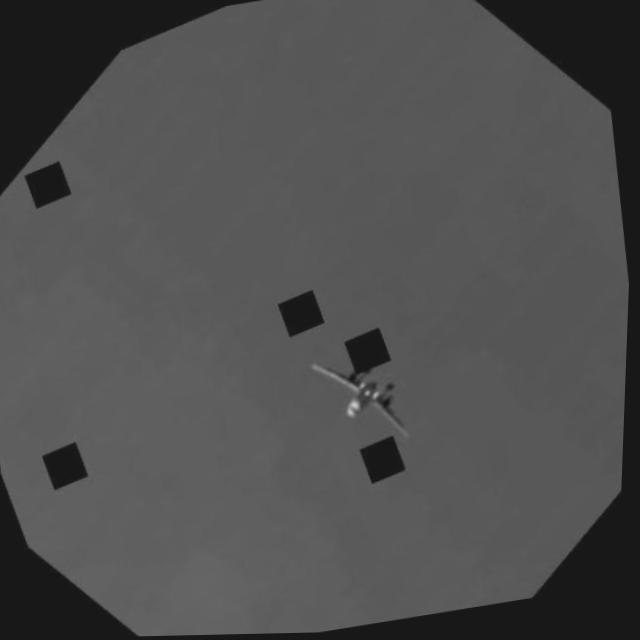aeroplane: (300, 323, 428, 474)
